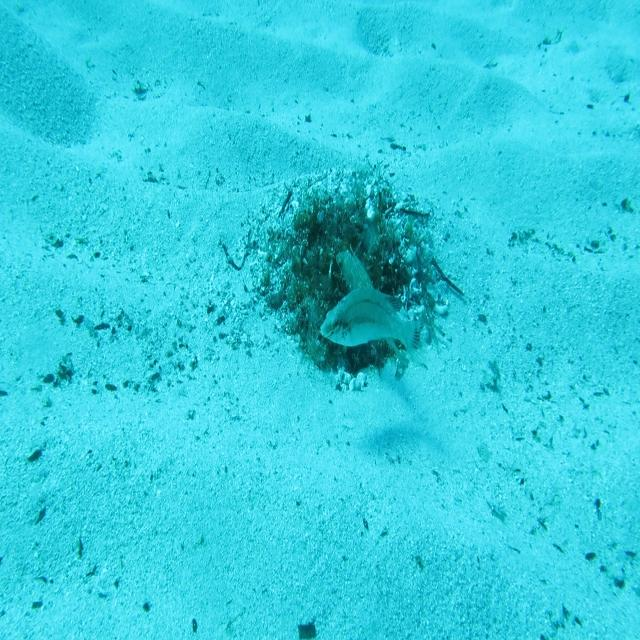ROLL: (336, 242, 411, 371)
core_nest: (320, 216, 366, 252)
female: (318, 284, 431, 374)
nest: (246, 150, 460, 404)
vegetation: (296, 618, 317, 640)
